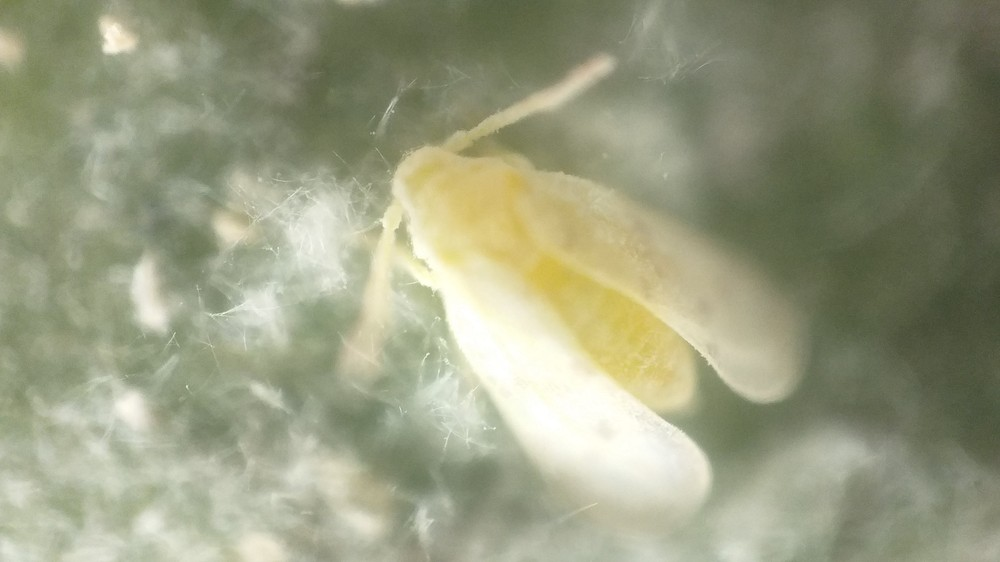Mosca Blanca: (302, 44, 825, 558)
